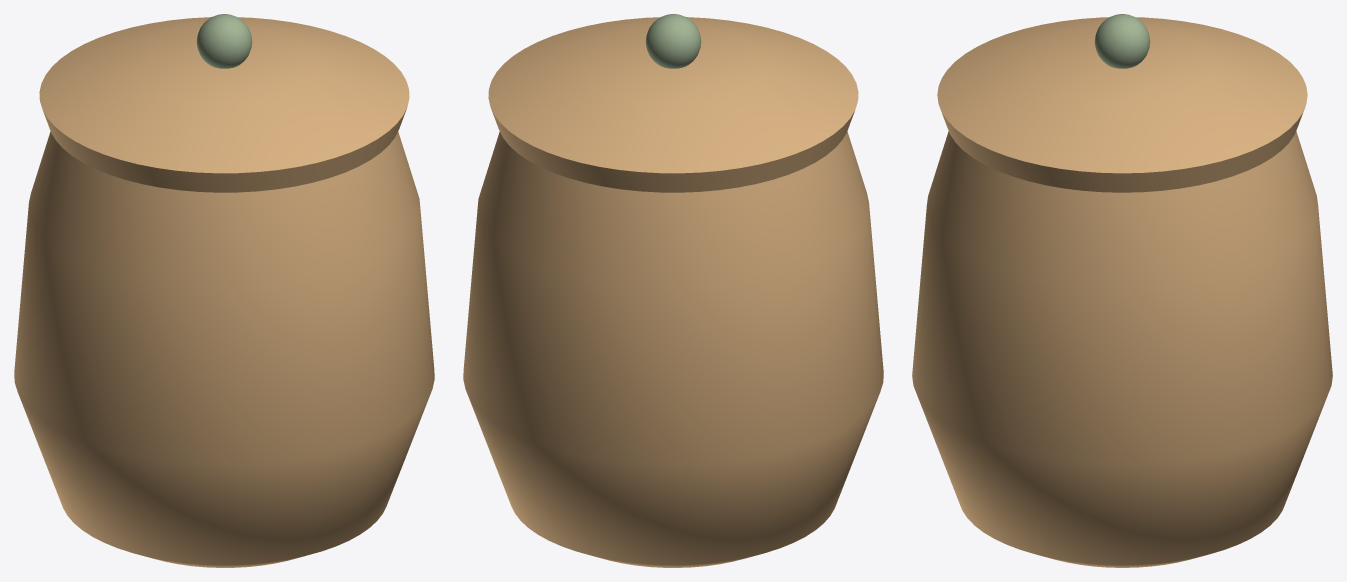
3 views of the same model, side by side, from view 1: azimuth 30°, elevation 25°; view 2: azimuth 150°, elevation 25°; view 3: azimuth 270°, elevation 25° (orthographic).
Visible parts, largest first — view 1: lidded-grain-jar; view 2: lidded-grain-jar; view 3: lidded-grain-jar.
Part boxes in pixels (x1,y1,x2,y2): lidded-grain-jar: [14, 14, 434, 567]; lidded-grain-jar: [463, 14, 883, 567]; lidded-grain-jar: [912, 14, 1332, 567].
Bounding box in the file's own units: 0.5 × 0.653 × 0.5.
